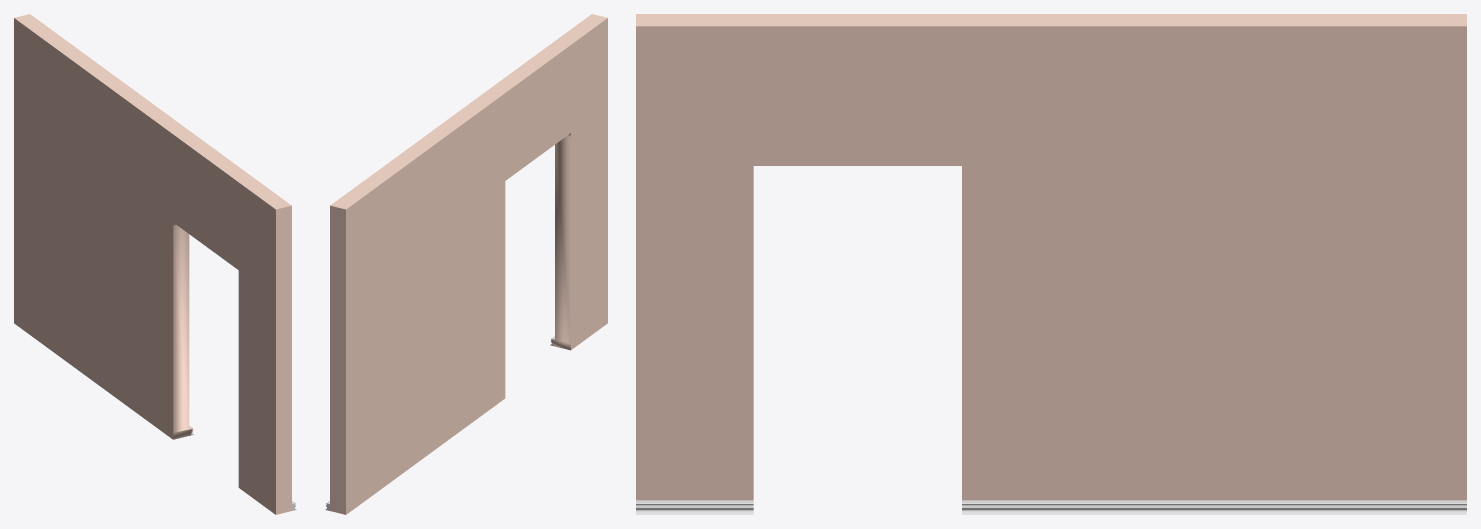
File: DoorWall.fbx
3 views of the same model, side by side, from view 1: azimuth 30°, elevation 25°; view 2: azimuth 150°, elevation 25°; view 3: azimuth 270°, elevation 25° (orthographic). The views are drawn at different scales.
Parts seen in each view (by area): view 1: 큐브; view 2: 큐브; view 3: 큐브.
Boxes of the visible parts, box(x1,y1,x2,y2) form: 큐브: box(14, 14, 296, 514); 큐브: box(325, 14, 607, 514); 큐브: box(636, 14, 1466, 514).
Bounding box in the file's own units: 2.81 × 38.86 × 60.38.
